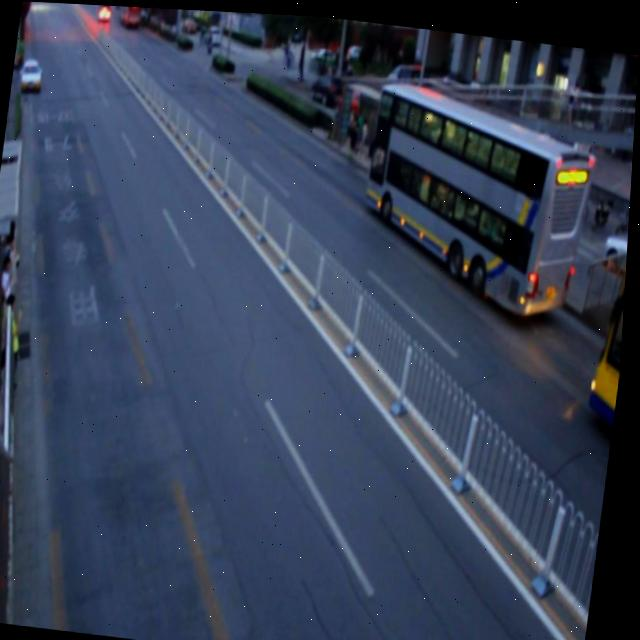van: (354, 75, 601, 318), (586, 251, 629, 427)
